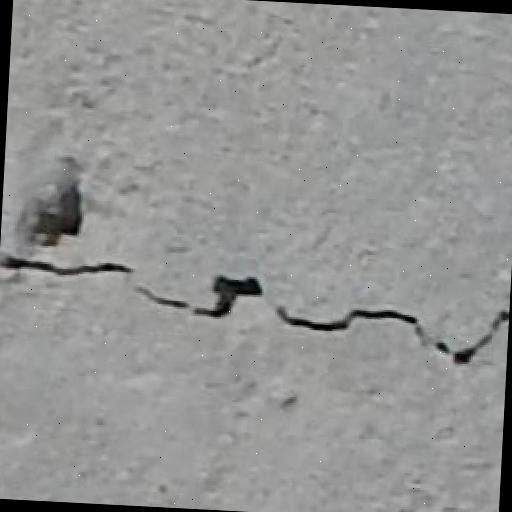spalling: (7, 237, 500, 368)
